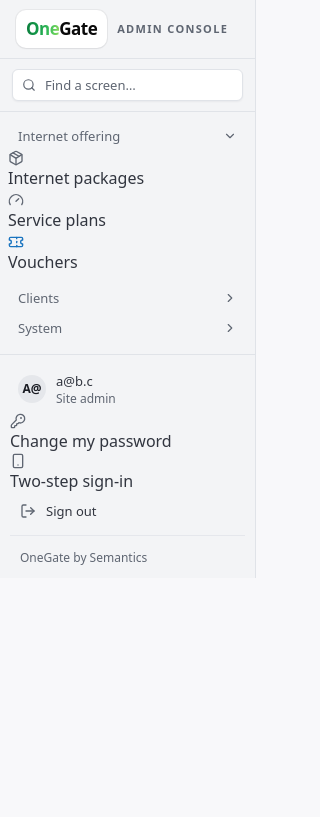
Test case: collapsible navigation sections › shows every match while filtering
Type "o" into the field named "Filter navigation" at (128, 84), box x1=12 y1=68 x2=243 y2=100
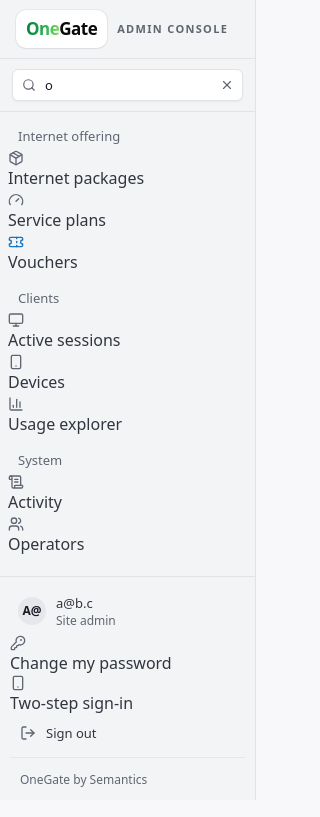
Check: the link "Vouchers" is shown, box x1=8 y1=234 x2=78 y2=272
Check: the link "Operators" is shown, box x1=8 y1=516 x2=84 y2=554
